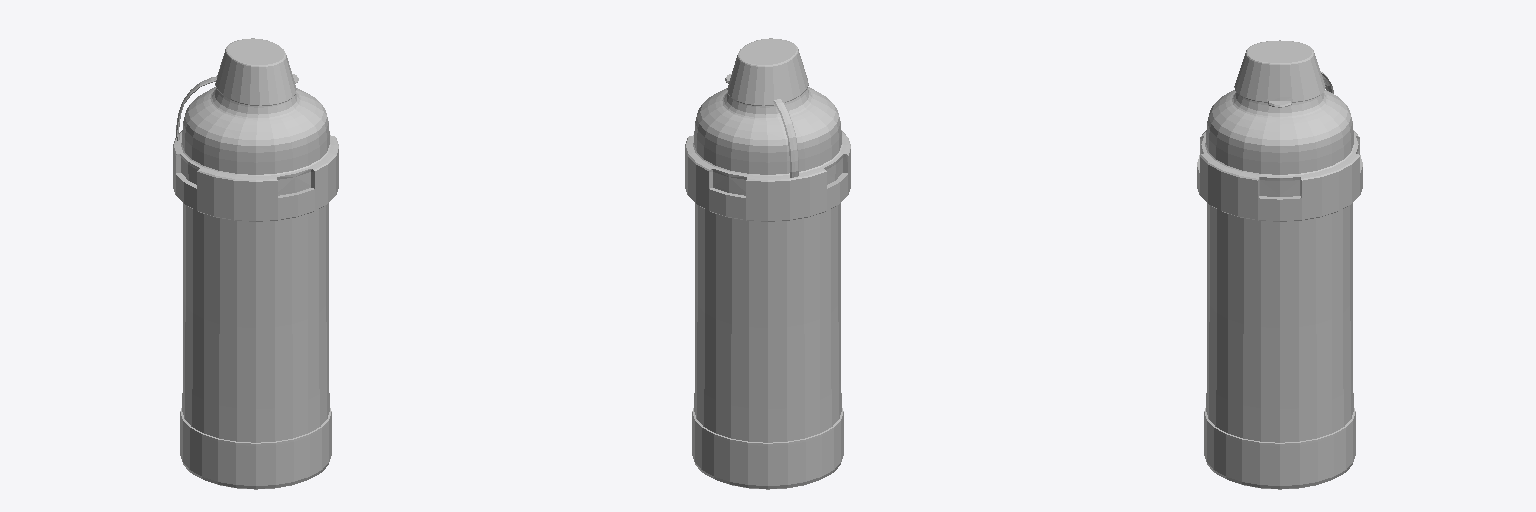
Rendered from Spacer at Center.obj.
3 renders of one model, left to right at view 1: azimuth 30°, elevation 25°; view 2: azimuth 150°, elevation 25°; view 3: azimuth 270°, elevation 25°, orthographic.
Parts seen in each view (by area): view 1: cylinder, cap2, cap3, cap4; view 2: cylinder, cap2, cap3, cap4; view 3: cylinder, cap2, cap3, cap4.
Boxes of the visible parts, x1,y1,x2,y2 form: cylinder: [182, 203, 329, 442]; cap2: [173, 87, 338, 221]; cap3: [180, 408, 331, 489]; cap4: [176, 38, 298, 140]; cylinder: [694, 203, 841, 442]; cap2: [685, 87, 850, 221]; cap3: [692, 408, 843, 489]; cap4: [725, 38, 808, 177]; cylinder: [1206, 203, 1353, 442]; cap2: [1197, 90, 1362, 221]; cap3: [1204, 408, 1355, 489]; cap4: [1234, 40, 1333, 107].
Size of the model in its own units: 0.0787 by 0.2126 by 0.0787.